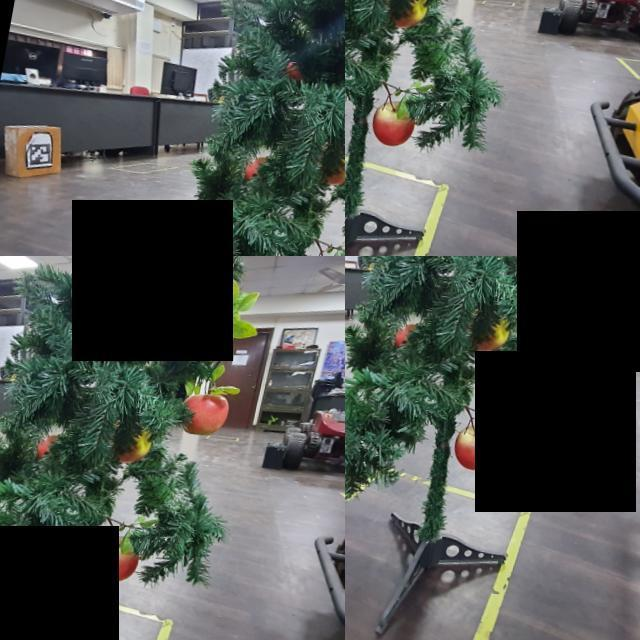Tree: (346, 257, 640, 634), (1, 257, 145, 640), (209, 1, 346, 257), (346, 1, 421, 257)
